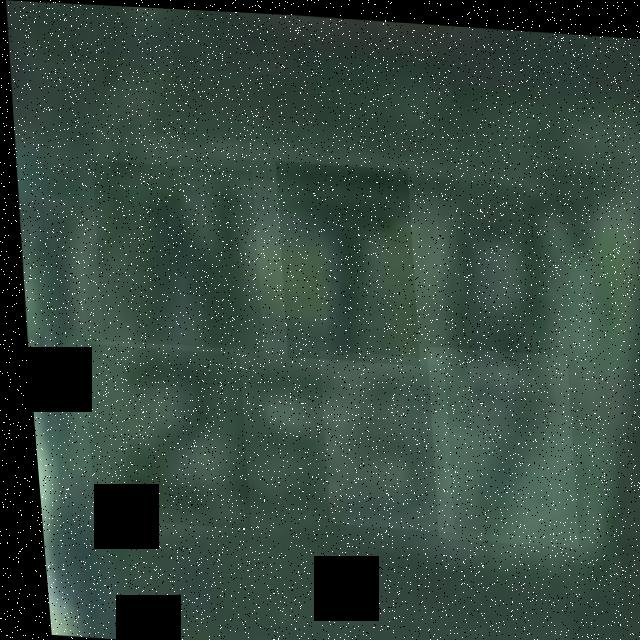2: (74, 342, 245, 527)
5: (310, 347, 448, 527)
7: (417, 341, 573, 542)
D: (430, 175, 573, 362)
N: (85, 159, 260, 348)
T: (269, 158, 418, 361)
